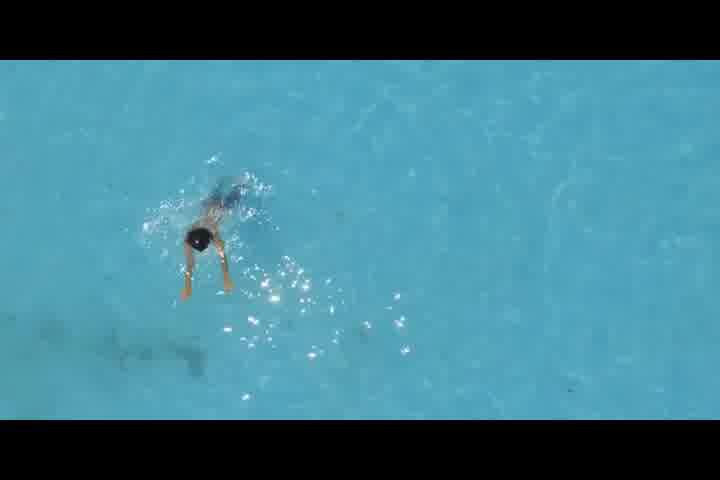human: (179, 176, 250, 301)
